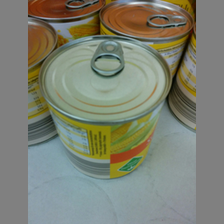corn: (38, 34, 173, 181)
